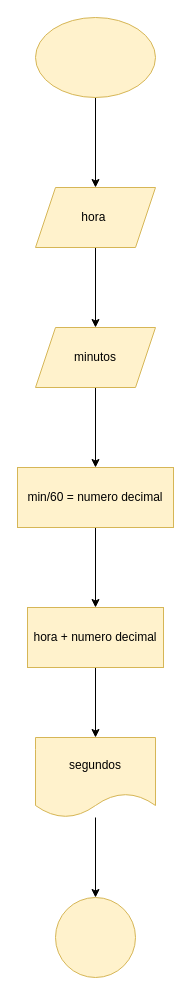
The diagram is 191 pixels wide and 995 high, and some of its shapes have lost their labels. Here are the shapes that lost their labels. From the top down, the centre of each, then its label:
At (95,57): "inicio".
At (95,937): "fim".
